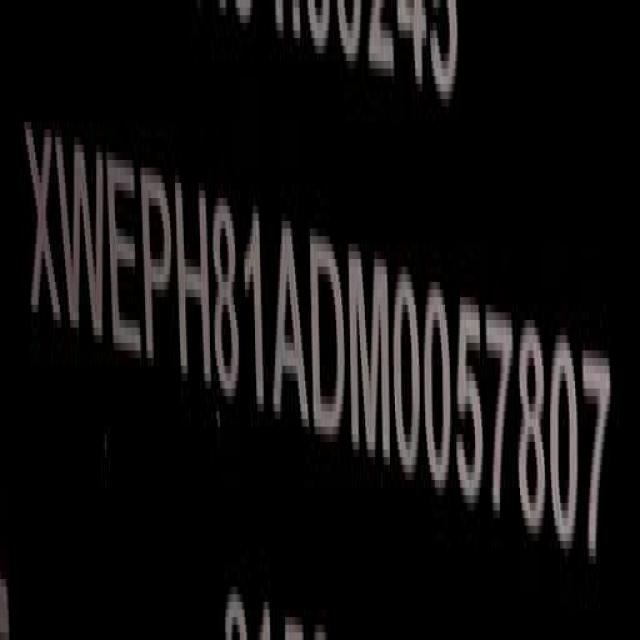0: (549, 332, 577, 554), (396, 258, 422, 481), (426, 277, 452, 500)
1: (246, 198, 264, 418)
5: (457, 290, 484, 508)
7: (585, 338, 614, 568), (488, 297, 514, 523)
8: (518, 322, 547, 540), (213, 190, 240, 403)
A: (275, 217, 310, 438)
D: (311, 228, 347, 450)
E: (108, 149, 139, 370)
H: (175, 173, 211, 393)
M: (350, 241, 390, 468)
P: (141, 158, 172, 380)
W: (56, 123, 105, 357)
X: (26, 108, 60, 342)
